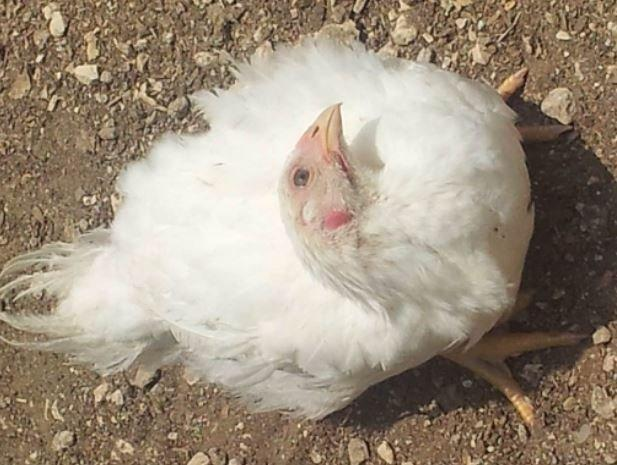AbNormal: (8, 21, 596, 465)
